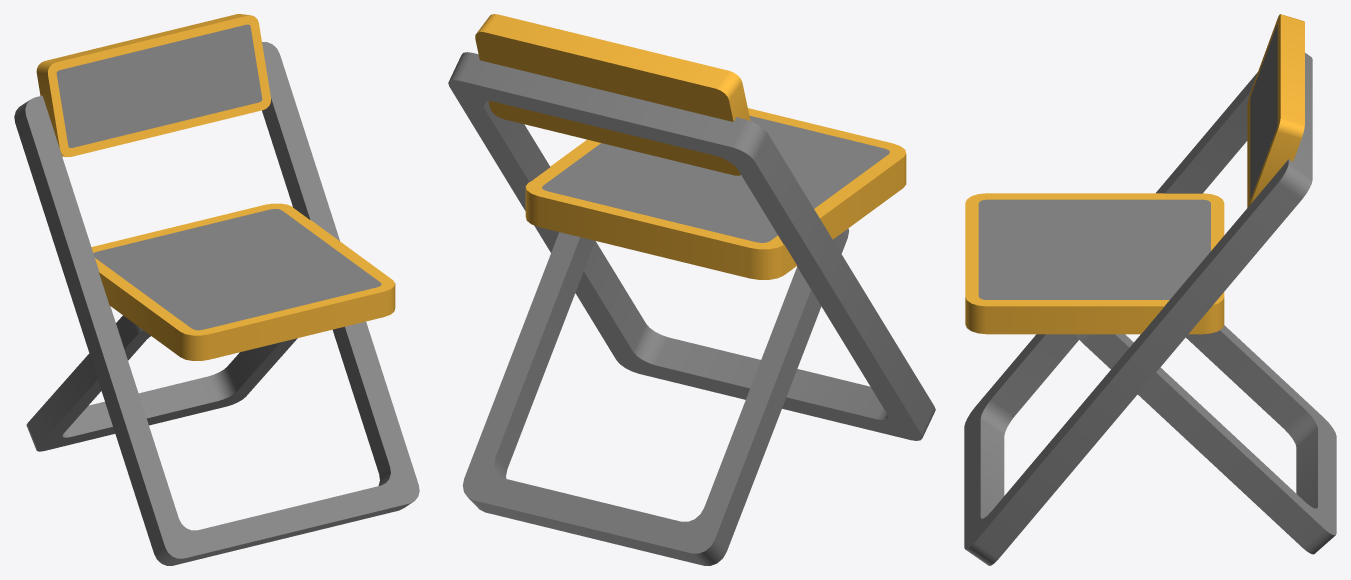
File: Stool Yellow.fbx
3 renders of one model, left to right at view 1: azimuth 30°, elevation 25°; view 2: azimuth 150°, elevation 25°; view 3: azimuth 270°, elevation 25°, orthographic. The views are drawn at different scales.
Visible parts, largest first — view 1: Stool Yellow; view 2: Stool Yellow; view 3: Stool Yellow.
Boxes of the visible parts, x1,y1,x2,y2 form: Stool Yellow: (14, 14, 419, 565); Stool Yellow: (448, 14, 935, 565); Stool Yellow: (964, 14, 1336, 565).
Size of the model in its own units: 103 by 156 by 120.
